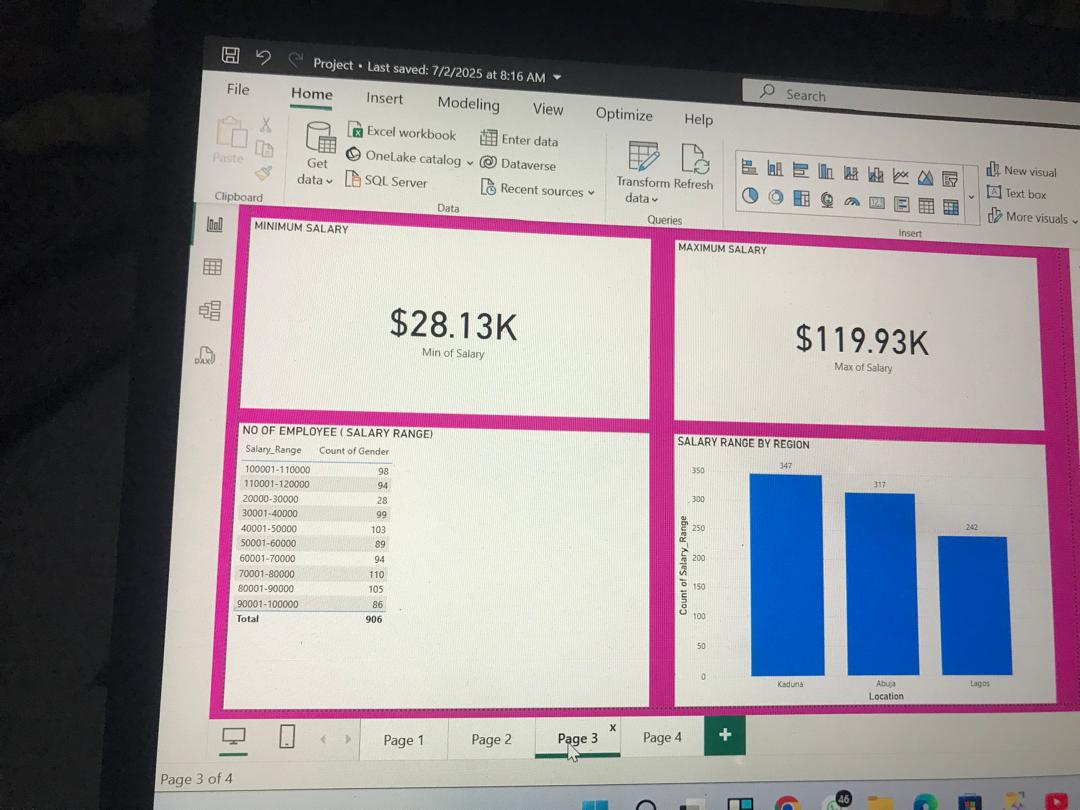

The dashboard page shown, as its layout file describes it:
{"tool":"powerbi","page":{"name":"Page 3","canvas":[1280,720],"ordinal":2},"visuals":[{"type":"card","title":"MINIMUM SALARY","fields":{"Values":["Min(Palmoria Group emp-data.Salary)"]},"box":[0,19.3,601.4,281.4],"z":0},{"type":"card","title":"MAXIMUM SALARY","fields":{"Values":["Max(Palmoria Group emp-data.Salary)"]},"box":[640,19.3,601.4,281.4],"z":1},{"type":"tableEx","title":"NO OF EMPLOYEE ( SALARY RANGE)","fields":{"Values":["Palmoria Group emp-data.Salary_Range","Palmoria Group emp-data.Gender"]},"box":[0,322.8,601.4,397.2],"z":2},{"type":"clusteredColumnChart","title":"SALARY RANGE BY REGION ","fields":{"Y":["CountNonNull(Palmoria Group emp-data.Salary_Range)"],"Category":["Palmoria Group emp-data.Location"]},"box":[640,322.8,601.4,397.2],"z":3}]}

Visuals, with their boxes on the page's 1280x720 design canvas (x1, y1, x2, y2). These are canvas units, not pixel positions in the 1080x810 screenshot, which may show the page scaled, cropped or inside an application window:
"MINIMUM SALARY" card: <box>0,19,601,301</box>
"MAXIMUM SALARY" card: <box>640,19,1241,301</box>
"NO OF EMPLOYEE ( SALARY RANGE)" tableEx: <box>0,323,601,720</box>
"SALARY RANGE BY REGION " clusteredColumnChart: <box>640,323,1241,720</box>
